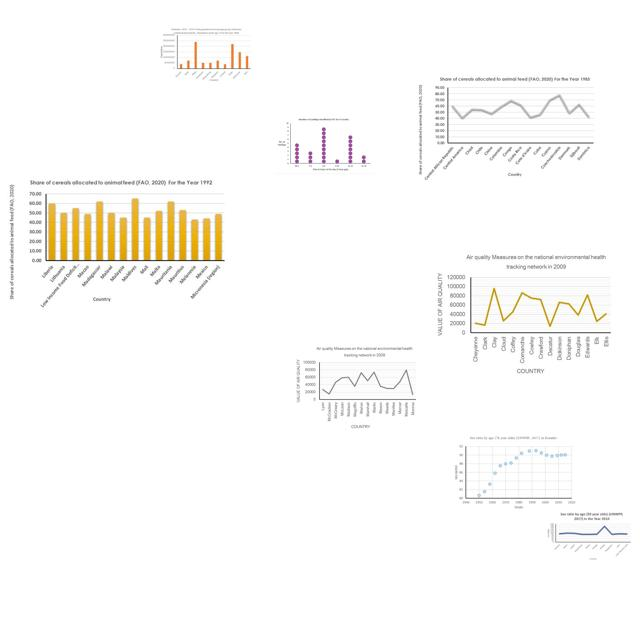Graph: (3, 176, 233, 312), (432, 249, 613, 377), (416, 75, 596, 182), (293, 344, 418, 432), (450, 435, 577, 510), (275, 116, 373, 174), (160, 27, 252, 82), (545, 510, 632, 561)
